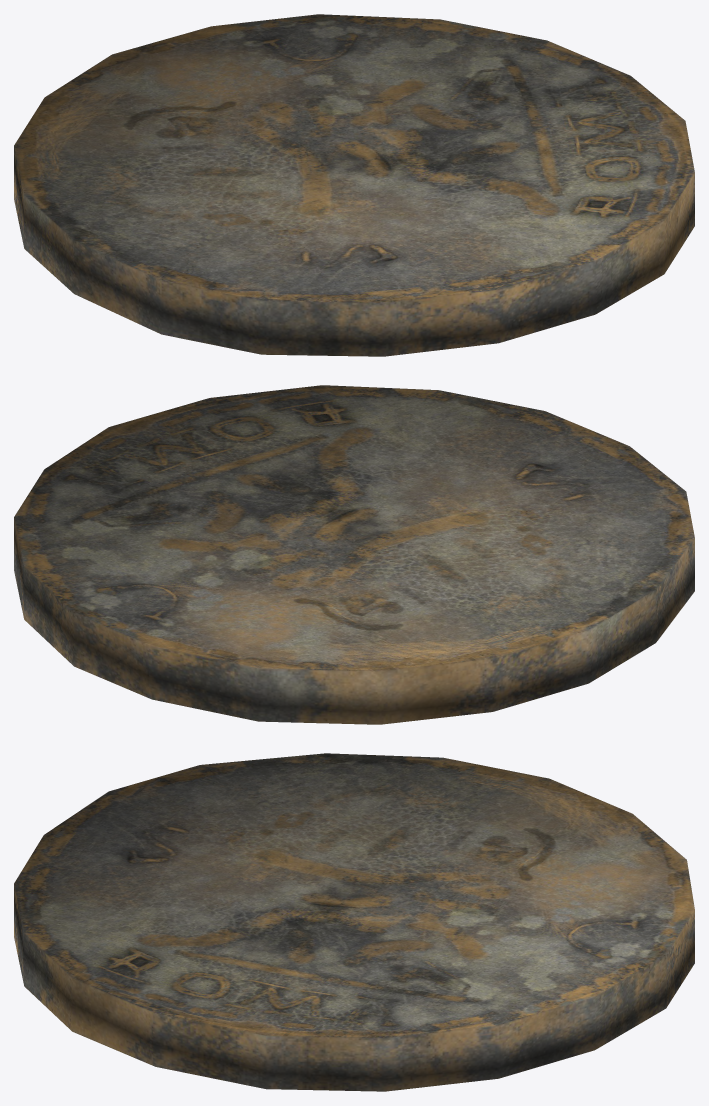
File: ARC0510137.fbx
3 views of the same model, one above another, from view 1: azimuth 30°, elevation 25°; view 2: azimuth 150°, elevation 25°; view 3: azimuth 270°, elevation 25° (orthographic).
Visible parts, largest first — view 1: smARC0510137; view 2: smARC0510137; view 3: smARC0510137.
Boxes of the visible parts, <box> form: smARC0510137: <box>14,14,694,356</box>; smARC0510137: <box>14,385,694,724</box>; smARC0510137: <box>14,753,694,1091</box>.
Bounding box in the file's own units: 8.23 × 0.7181 × 8.31.
1 material, 1 textured.
